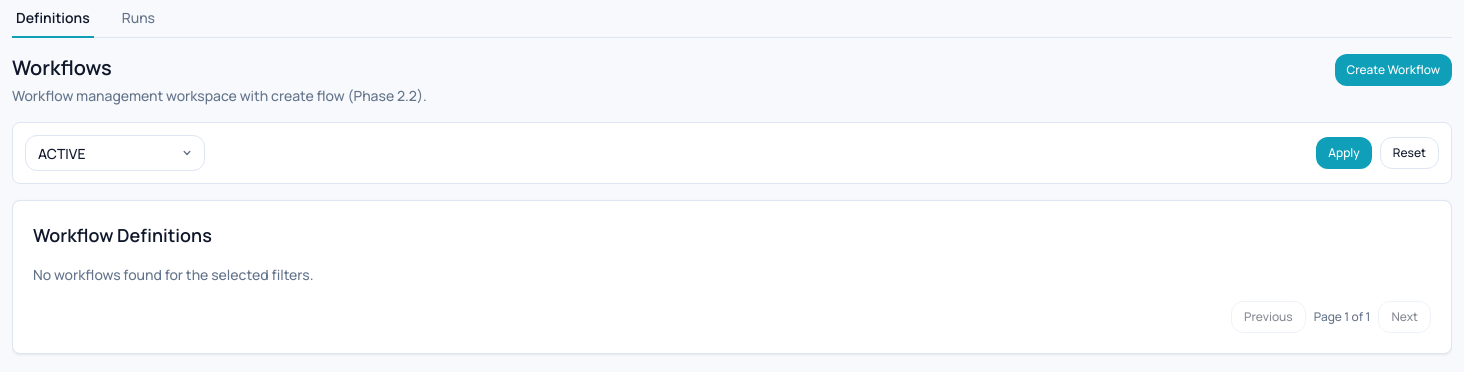
it: workflows page filters › reset clears the status filter back to all
Step 1. Click the button "Reset" → [1409, 153], box x1=1380 y1=137 x2=1439 y2=169
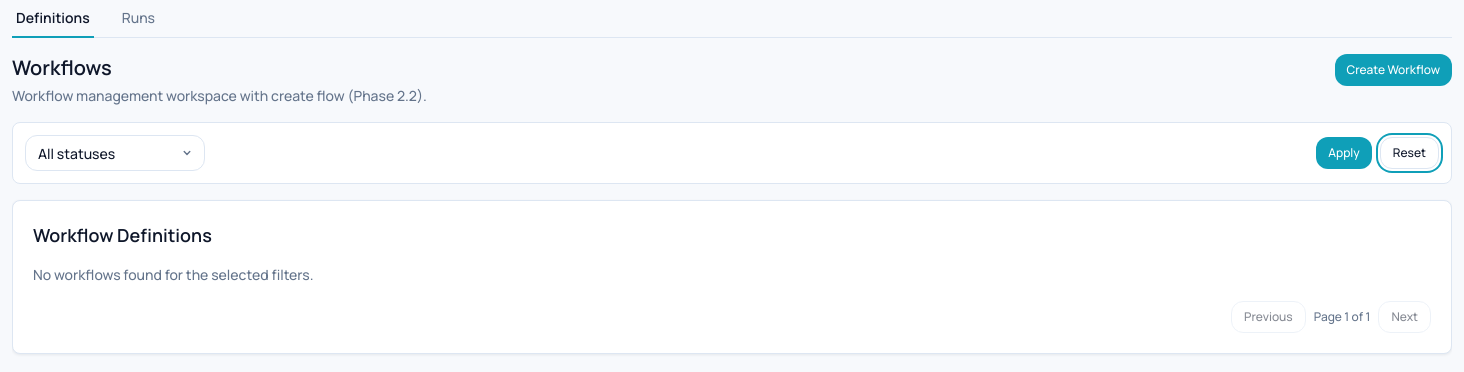
expect the dropdown named "Status" shows "All statuses": met, box x1=25 y1=135 x2=205 y2=171
